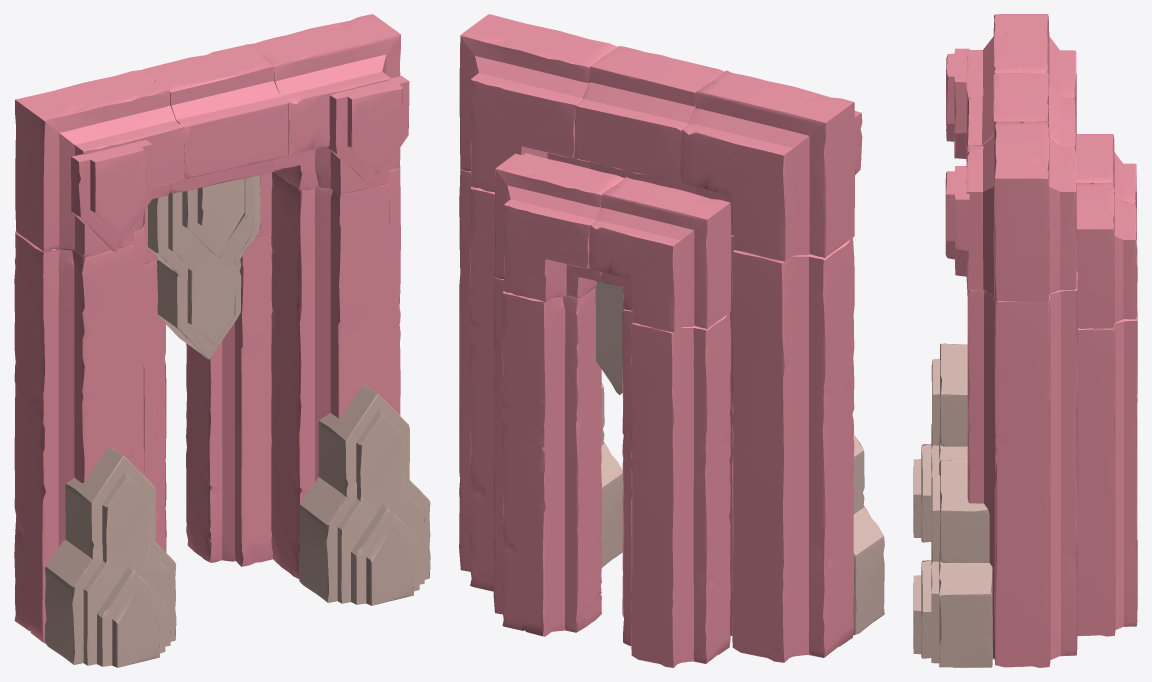
File: cluster_stone_06_a.fbx
3 views of the same model, side by side, from view 1: azimuth 30°, elevation 25°; view 2: azimuth 150°, elevation 25°; view 3: azimuth 270°, elevation 25° (orthographic). The views are drawn at different scales.
Parts seen in each view (by area): view 1: cluster_stone_06_a_LOD0; view 2: cluster_stone_06_a_LOD0; view 3: cluster_stone_06_a_LOD0.
Part boxes in pixels (x1,y1,x2,y2): cluster_stone_06_a_LOD0: (14, 14, 430, 667); cluster_stone_06_a_LOD0: (459, 14, 884, 667); cluster_stone_06_a_LOD0: (913, 14, 1137, 667).
Size of what is drawn, in the model's own units: 458 by 640 by 265.
